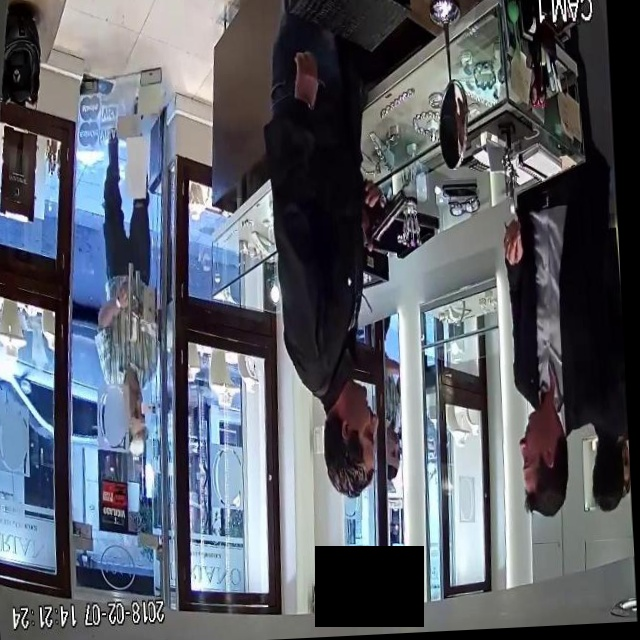gun: (348, 160, 421, 260)
